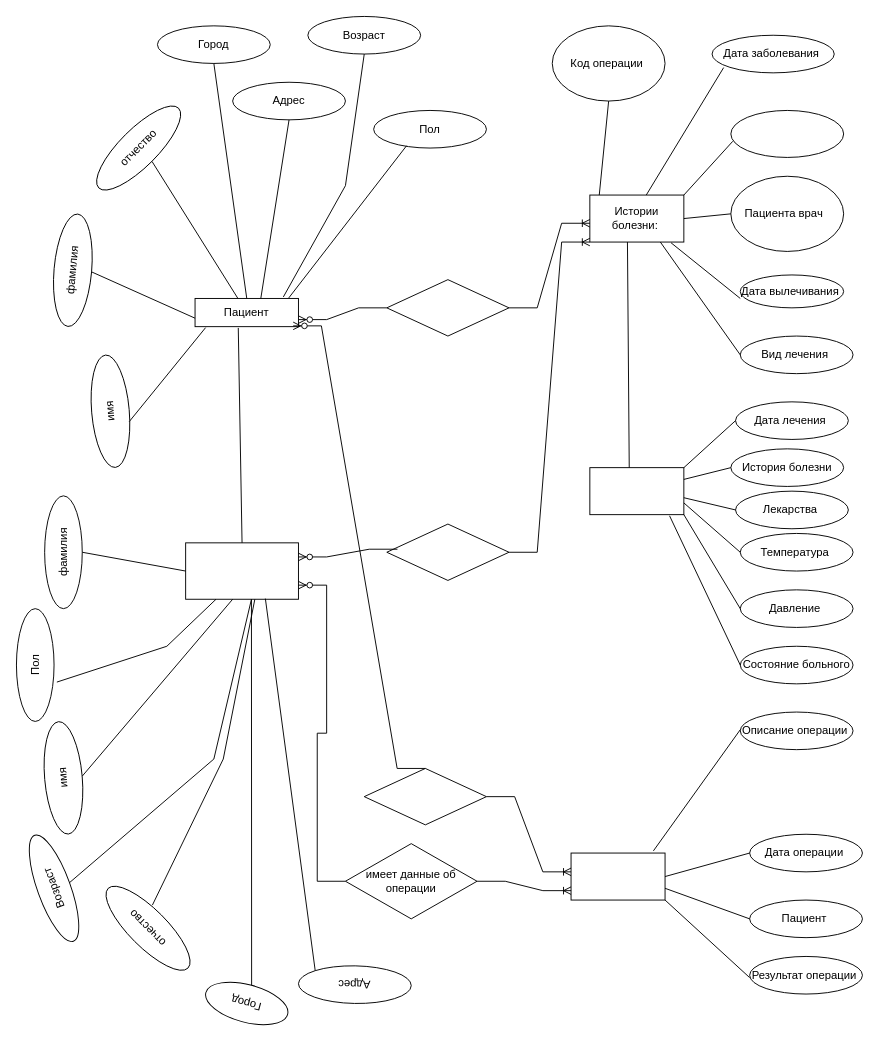
The diagram is 879 pixels wide and 1050 high, and some of its shapes have lost their labels. The box of each missing label's shape, as (x1, y1, x2, y2) in pixels:
врач: (185, 542, 298, 599)
Диагноз: (730, 110, 844, 157)
имеет данные: (386, 523, 509, 580)
Лист лечения: (589, 467, 684, 515)
Операцию: (570, 852, 665, 900)
получает информацию: (386, 279, 509, 336)
Проходит: (363, 768, 486, 825)
